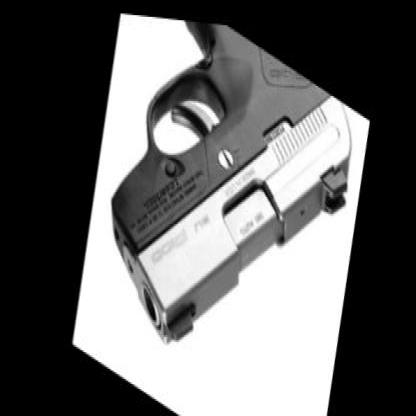pistol: (77, 7, 381, 413)
